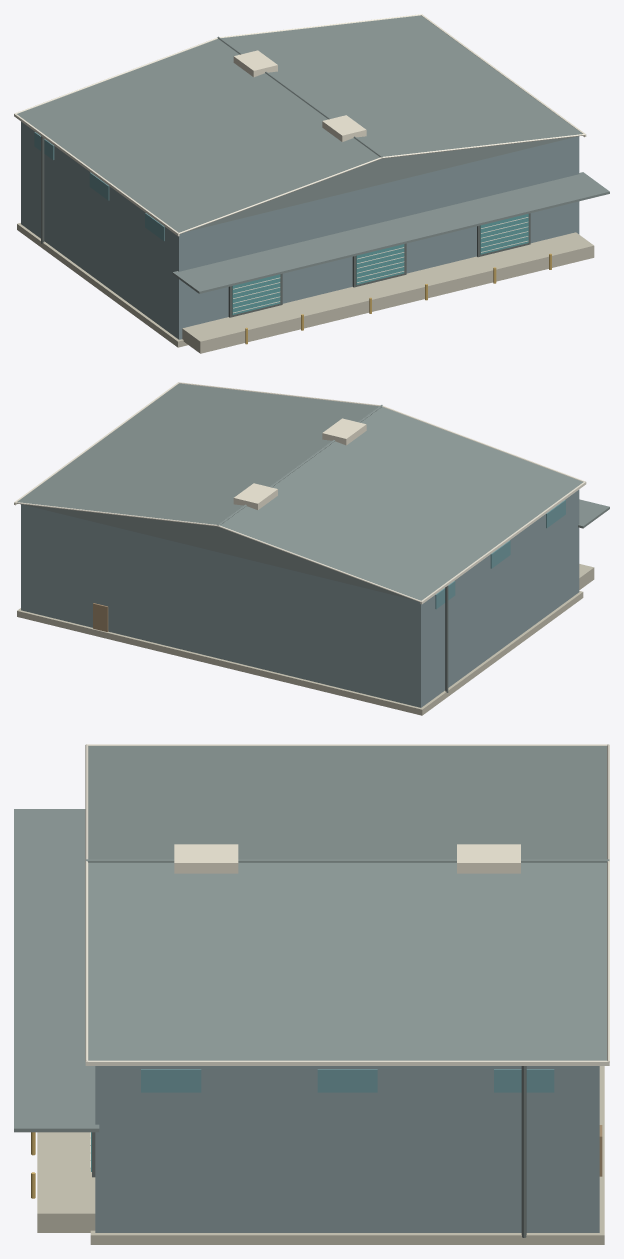
3 views of the same model, one above another, from view 1: azimuth 30°, elevation 25°; view 2: azimuth 150°, elevation 25°; view 3: azimuth 270°, elevation 25° (orthographic). The views are drawn at different scales.
Size of the model in its own units: 39 by 13.28 by 30.73.
